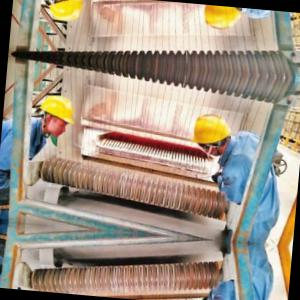helmet: (184, 108, 233, 157), (34, 90, 80, 139), (194, 5, 242, 36), (43, 1, 90, 28)
